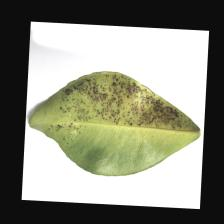canker: (85, 81, 167, 122)
